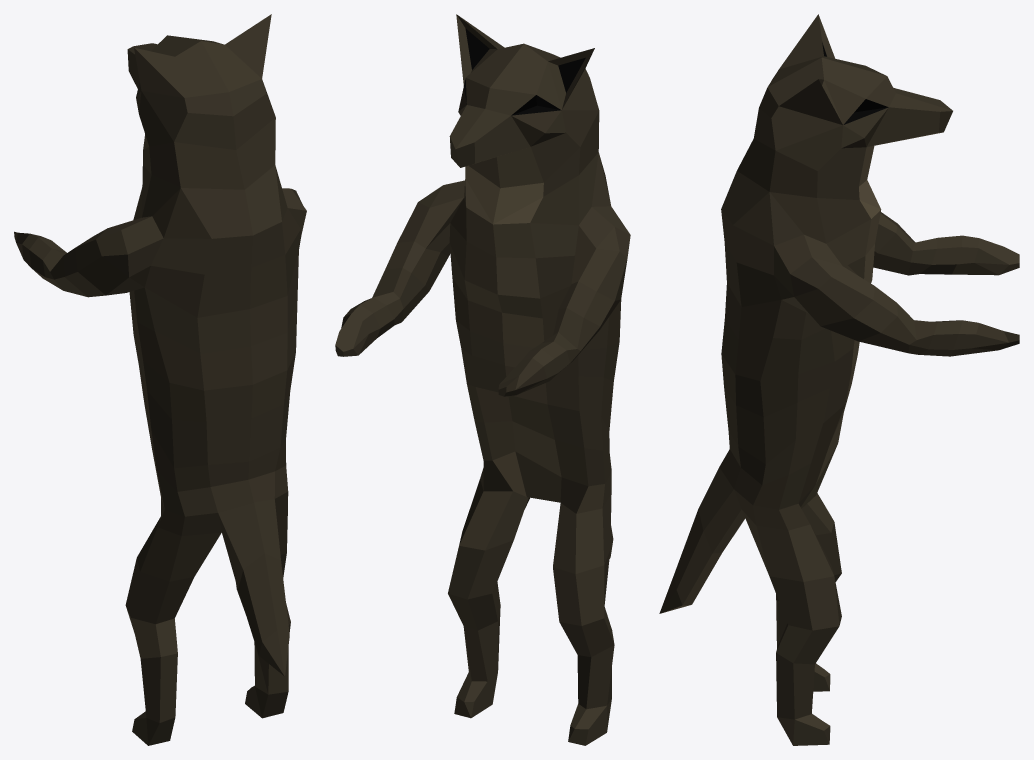
Rendered from Coyote3.fbx.
3 views of the same model, side by side, from view 1: azimuth 30°, elevation 25°; view 2: azimuth 150°, elevation 25°; view 3: azimuth 270°, elevation 25° (orthographic). The views are drawn at different scales.
Visible parts, largest first — view 1: Coyote; view 2: Coyote; view 3: Coyote.
Boxes of the visible parts, <box> form: Coyote: <box>14,14,306,745</box>; Coyote: <box>335,14,630,745</box>; Coyote: <box>659,14,1019,745</box>.
Bounding box in the file's own units: 2.1 × 6.48 × 3.17.
